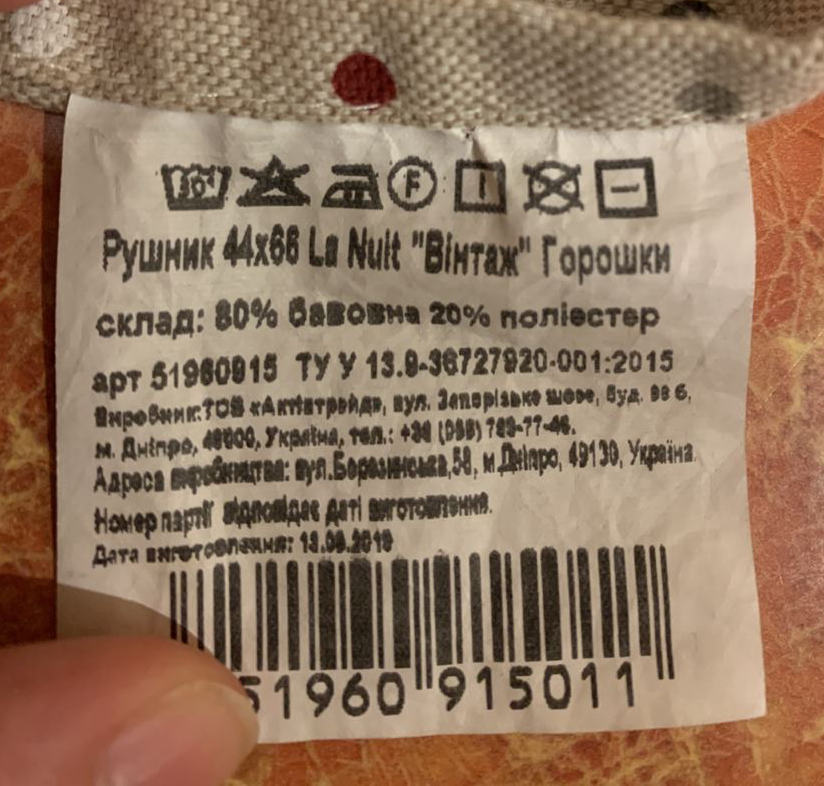do_not_bleach: (234, 150, 315, 211)
do_not_dry_clean: (519, 155, 588, 217)
dry_clean_hydrocarbon_solvent_only_hcs: (385, 155, 442, 210)
dry_flat: (591, 150, 662, 223)
ironing_at_med_temp: (315, 158, 388, 212)
line_dry: (452, 156, 509, 214)
wash_at_or_below_30: (162, 156, 236, 213)
